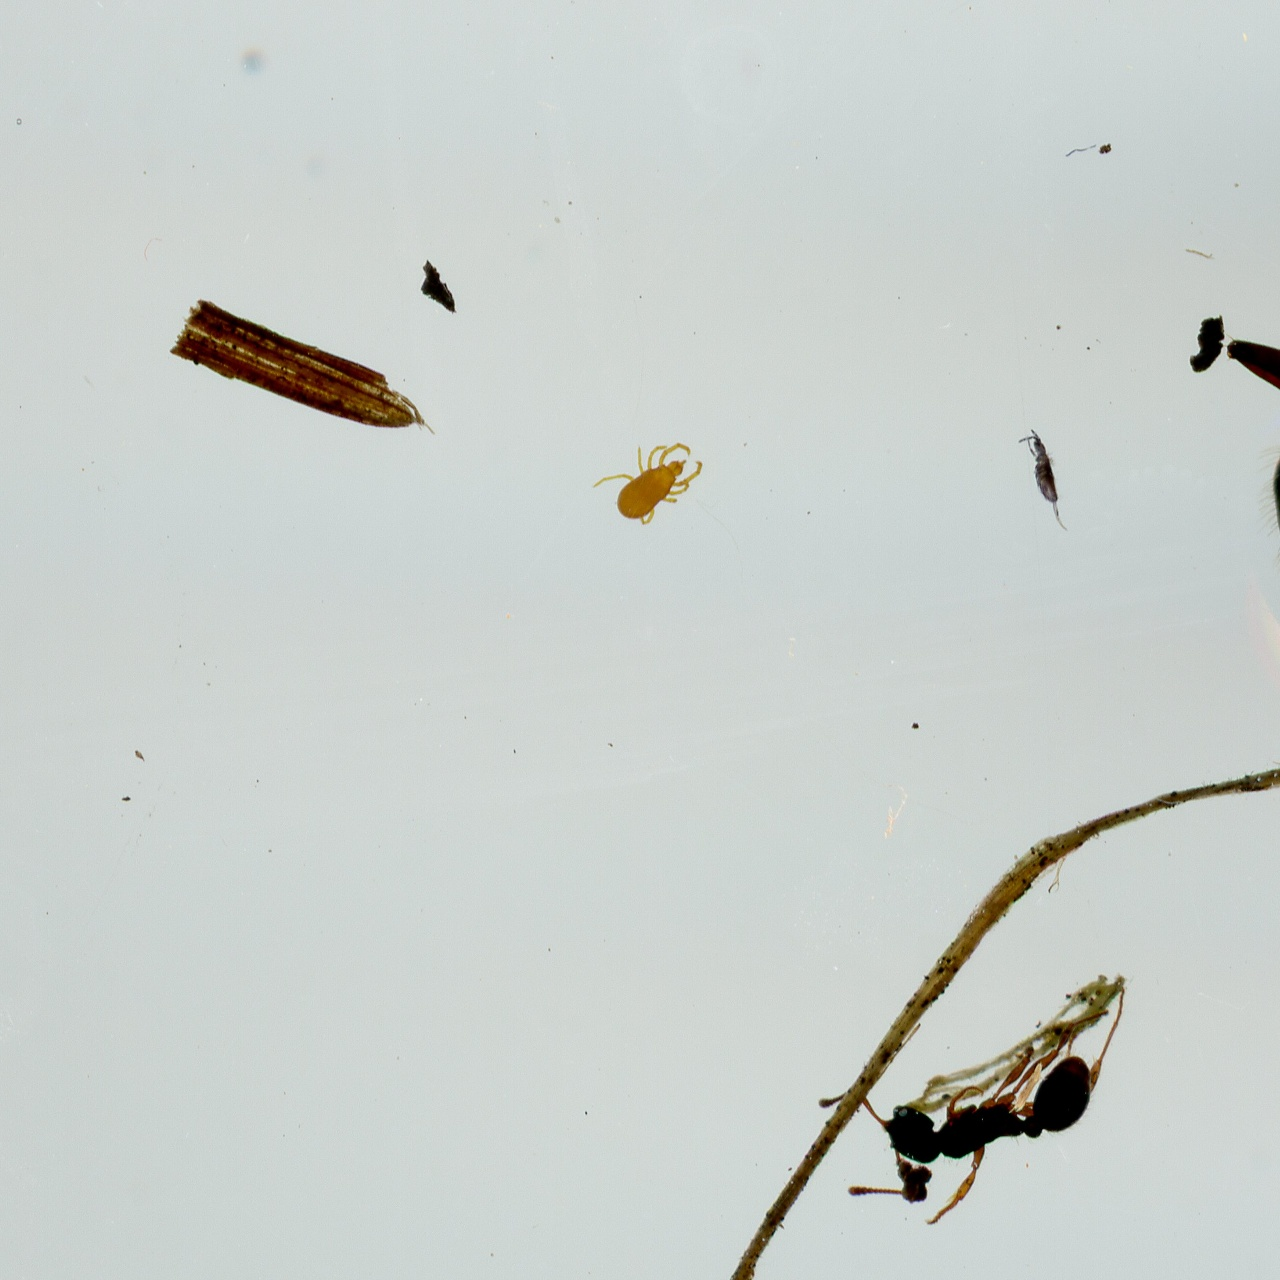arthropod: (799, 948, 1187, 1258), (1218, 227, 1280, 670), (590, 440, 706, 530), (1010, 418, 1078, 544)
